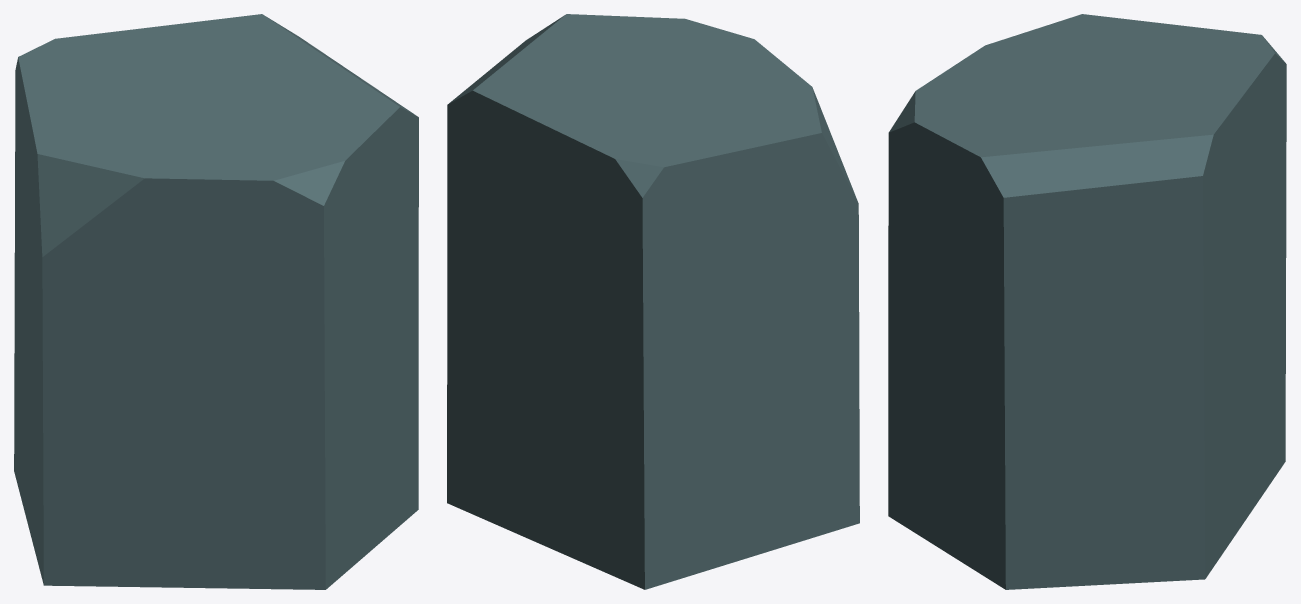
File: brigesCube_012.fbx
3 views of the same model, side by side, from view 1: azimuth 30°, elevation 25°; view 2: azimuth 150°, elevation 25°; view 3: azimuth 270°, elevation 25° (orthographic). The views are drawn at different scales.
Visible parts, largest first — view 1: Cube.012; view 2: Cube.012; view 3: Cube.012.
Part boxes in pixels (x1,y1,x2,y2): Cube.012: (14,14,418,589); Cube.012: (447,14,859,589); Cube.012: (888,14,1286,589).
Size of the model in its own units: 83.62 by 96.11 by 80.7.
